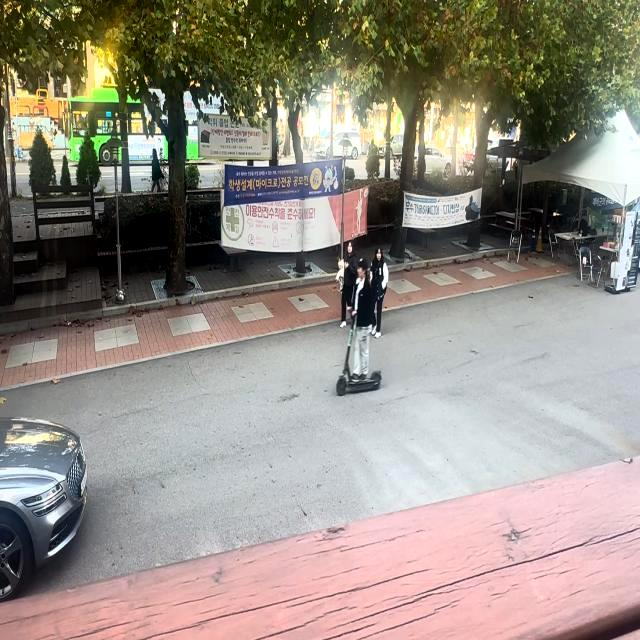bare_head: (353, 259, 380, 281)
human: (350, 267, 377, 378)
kickboard: (331, 369, 404, 404)
